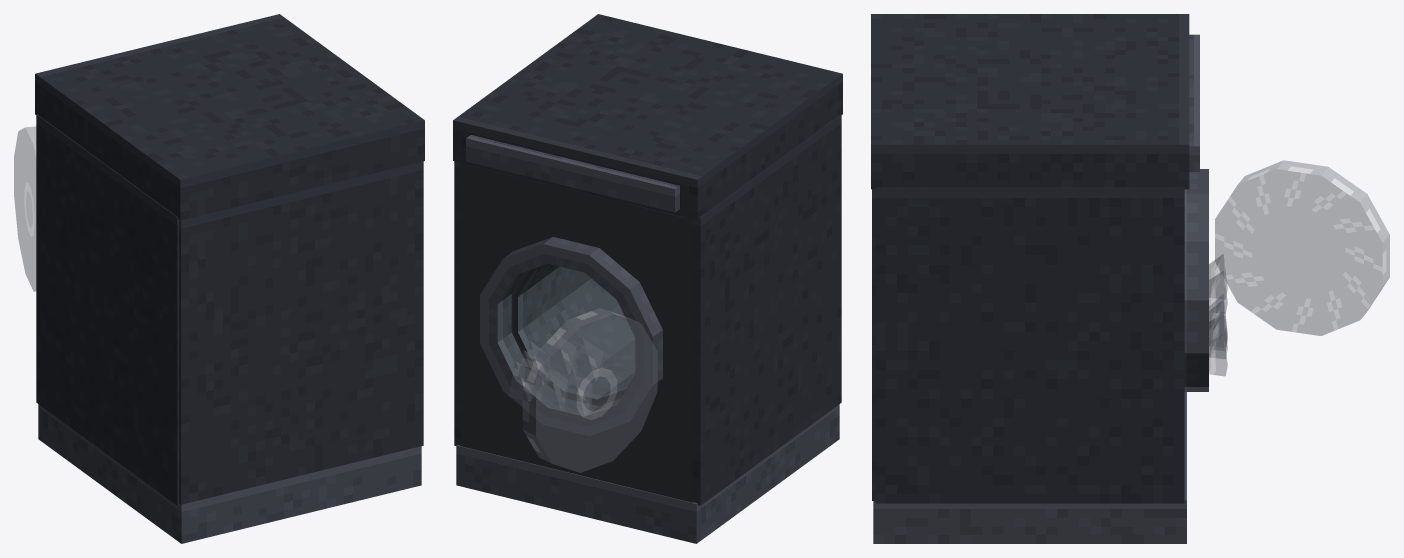
The model's file is f_vitrified_dryer.glb.
The picture shows the model from 3 angles, left to right: view 1: azimuth 30°, elevation 25°; view 2: azimuth 150°, elevation 25°; view 3: azimuth 270°, elevation 25°; orthographic projection. The views are drawn at different scales.
Visible parts, largest first — view 1: block_dark-appliance-back, block_dark-appliance-worktop, block_dark-appliance-side, block_appliance-base, block_glazed-dryer-door; view 2: block_dark-appliance-side (×2), block_dark-appliance-worktop, block_solid-glass-door-fascia, block_glazed-dryer-door, block_appliance-base, block_dead-control-panel, block_shattered-laundry-fragment (×6), block_recessed-drum-wall-inner-10, block_recessed-drum-wall-inner-9, block_recessed-drum-wall-inner-11, block_recessed-drum-wall-inner-8, block_recessed-drum-rim-near-rim-2 (+19 smaller); view 3: block_dark-appliance-side, block_dark-appliance-worktop, block_glazed-dryer-door, block_appliance-base, block_shattered-laundry-fragment (×3), block_dead-control-panel, block_recessed-drum-rim-outer-0, block_recessed-drum-rim-outer-11, block_dark-appliance-back, block_recessed-drum-rim-outer-1, block_recessed-drum-rim-outer-10.
Part boxes in pixels (box(x1,y1,x2,y2)): block_dark-appliance-back: box(179, 161, 423, 504); block_dark-appliance-worktop: box(35, 14, 424, 220); block_dark-appliance-side: box(36, 114, 180, 505); block_appliance-base: box(38, 404, 421, 543); block_glazed-dryer-door: box(14, 126, 36, 291); block_dark-appliance-side (×2): box(454, 114, 841, 505); block_dark-appliance-worktop: box(453, 14, 842, 220); block_solid-glass-door-fascia: box(460, 163, 692, 502); block_glazed-dryer-door: box(522, 308, 657, 472); block_appliance-base: box(456, 404, 839, 543); block_dead-control-panel: box(466, 135, 679, 212); block_shattered-laundry-fragment (×6): box(509, 333, 602, 415); block_recessed-drum-wall-inner-10: box(518, 278, 618, 365); block_recessed-drum-wall-inner-9: box(536, 305, 635, 390); block_recessed-drum-wall-inner-11: box(518, 266, 591, 331); block_recessed-drum-wall-inner-8: box(565, 339, 635, 399); block_recessed-drum-rim-near-rim-2: box(543, 244, 589, 272); block_dark-appliance-side: box(875, 187, 1184, 503); block_dark-appliance-worktop: box(871, 14, 1189, 189); block_glazed-dryer-door: box(1215, 160, 1389, 335); block_appliance-base: box(873, 392, 1186, 543); block_shattered-laundry-fragment (×3): box(1209, 254, 1227, 376); block_dead-control-panel: box(1189, 34, 1199, 171); block_recessed-drum-rim-outer-0: box(1184, 241, 1208, 300); block_recessed-drum-rim-outer-11: box(1184, 300, 1208, 353); block_dark-appliance-back: box(872, 189, 875, 500); block_recessed-drum-rim-outer-1: box(1184, 193, 1208, 241); block_recessed-drum-rim-outer-10: box(1184, 353, 1208, 386).
Size of the model in its own units: 0.608 by 0.862 by 1.01.
3 materials, 3 textured.
